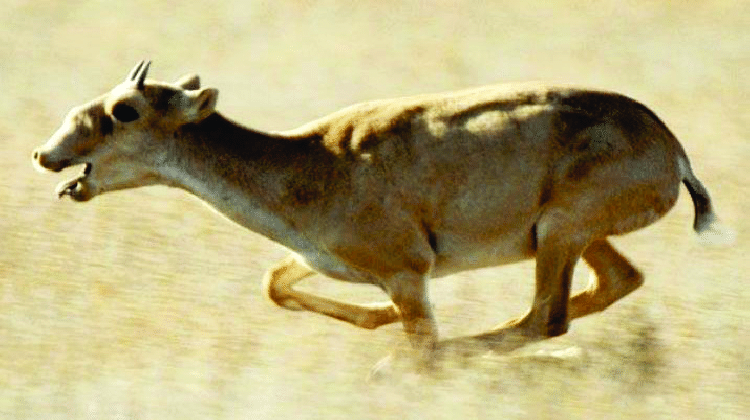saiga: (32, 58, 724, 366)
